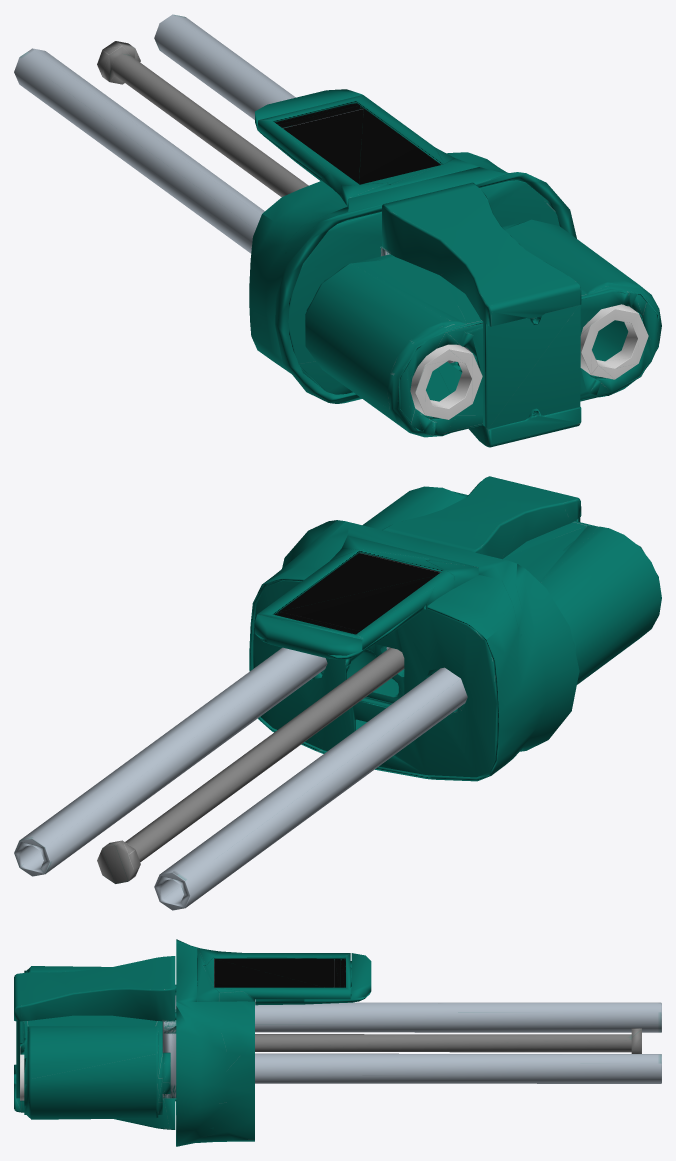
File: torso.obj
3 views of the same model, one above another, from view 1: azimuth 30°, elevation 25°; view 2: azimuth 150°, elevation 25°; view 3: azimuth 270°, elevation 25° (orthographic). The views are drawn at different scales.
Size of the model in its own units: 0.33 by 0.1973 by 0.8151.
1 material, 1 textured.
